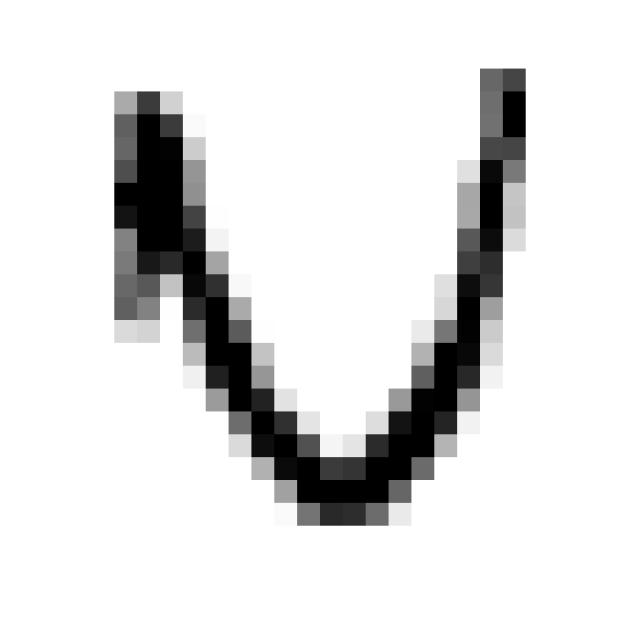7 -seven-: (76, 53, 546, 536)
